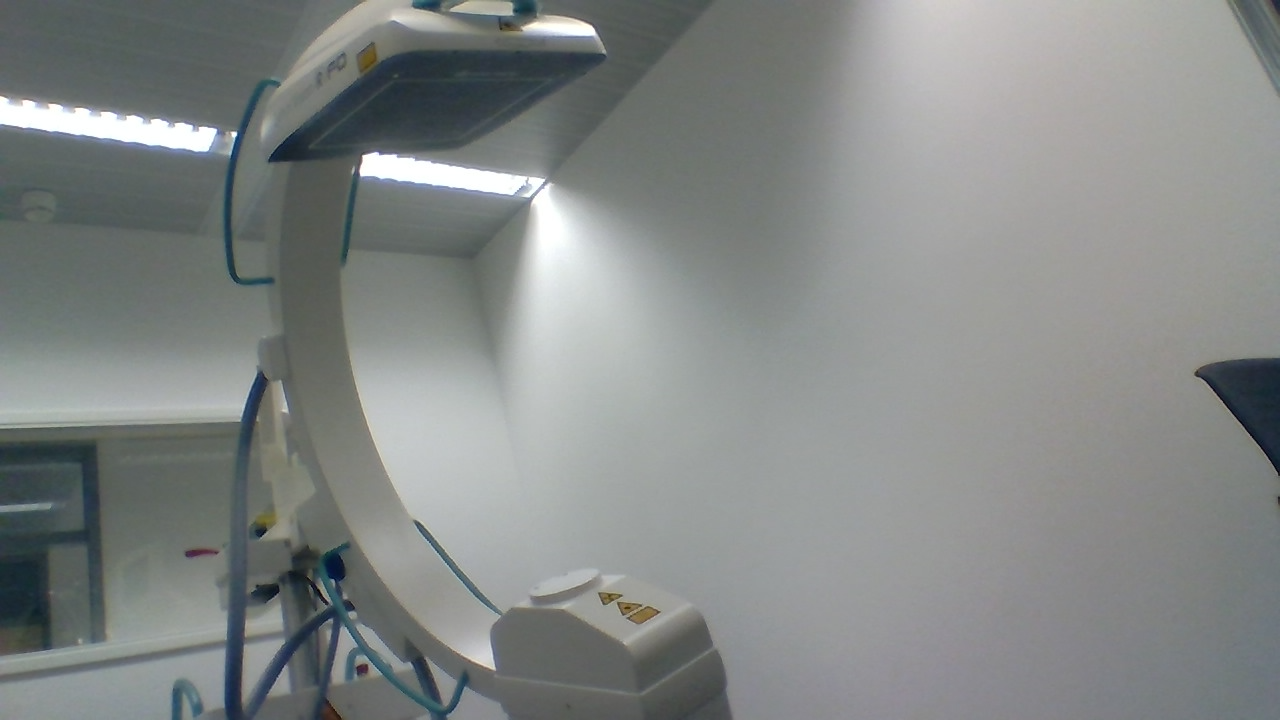carmDOWN: (490, 562, 732, 694)
carmLOCK: (322, 554, 348, 582)
carmUP: (255, 0, 611, 162)
